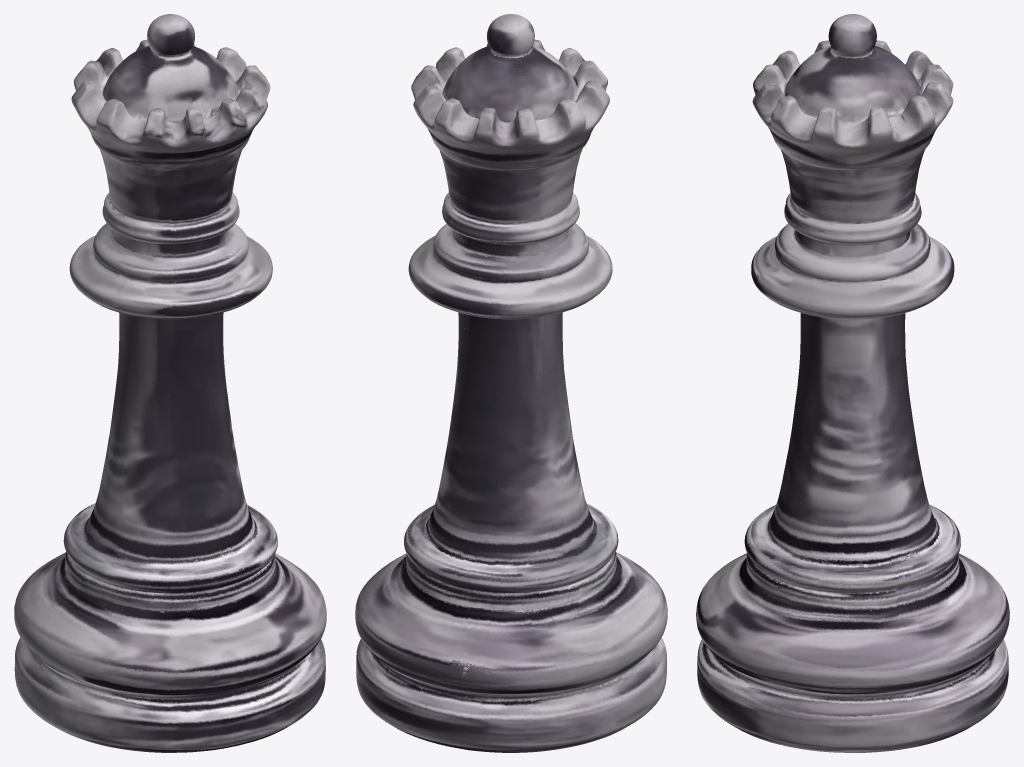
Rendered from queen.glb.
3 views of the same model, side by side, from view 1: azimuth 30°, elevation 25°; view 2: azimuth 150°, elevation 25°; view 3: azimuth 270°, elevation 25° (orthographic).
Parts seen in each view (by area): view 1: queen; view 2: queen; view 3: queen.
Boxes of the visible parts, x1,y1,x2,y2 form: queen: (14, 14, 326, 752); queen: (355, 14, 667, 752); queen: (696, 14, 1009, 752).
Size of the model in its own units: 0.2533 by 0.6095 by 0.2554.
1 material, 1 textured.
